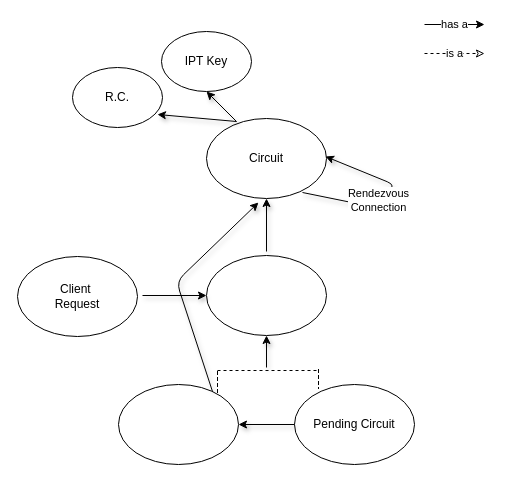
The diagram is 510 pixels wide and 482 high, and some of its shapes have lost their labels. The centre of each missing label's shape, as x and y in pixels:
"Active Circuit" belongs at (178,424).
"Stream" belongs at (266,295).
